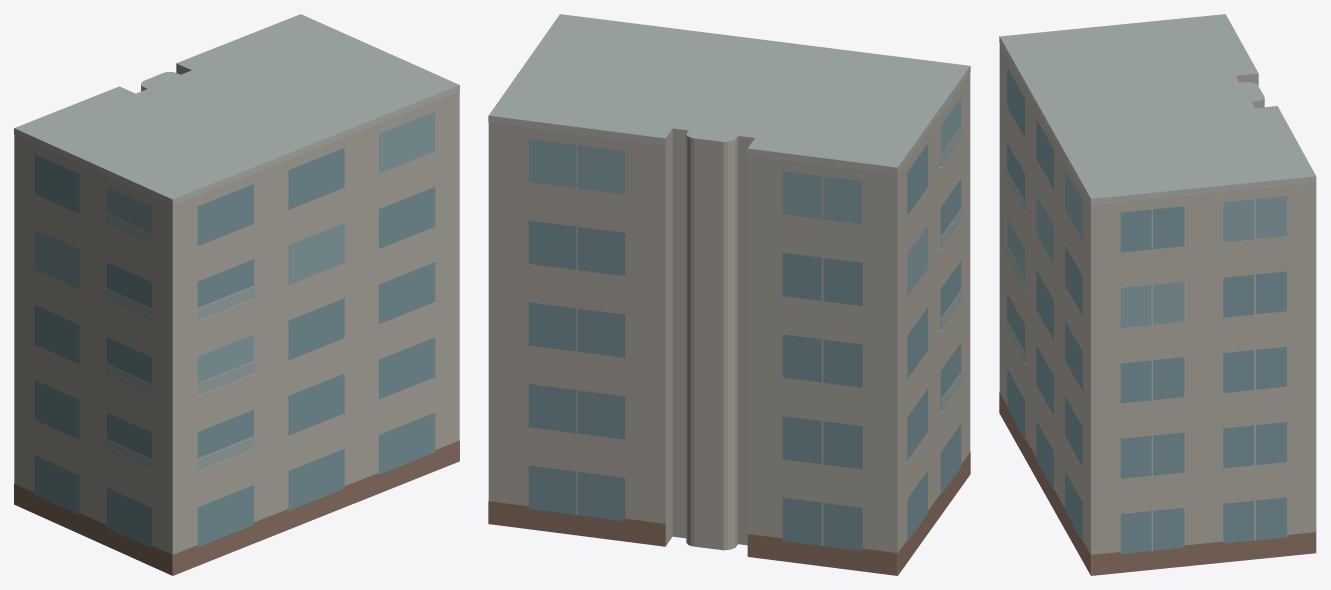
File: survey-upis-32825069.glb
The picture shows the model from 3 angles, left to right: view 1: azimuth 30°, elevation 25°; view 2: azimuth 150°, elevation 25°; view 3: azimuth 270°, elevation 25°; orthographic projection. The views are drawn at different scales.
Visible parts, largest first — view 1: survey-upis-32825069.tmp; view 2: survey-upis-32825069.tmp; view 3: survey-upis-32825069.tmp.
Boxes of the visible parts, bbox=[...] form: survey-upis-32825069.tmp: bbox=[14, 14, 459, 575]; survey-upis-32825069.tmp: bbox=[488, 14, 970, 575]; survey-upis-32825069.tmp: bbox=[999, 14, 1316, 575].
Size of the model in its own units: 15.17 by 14.4 by 10.98.
